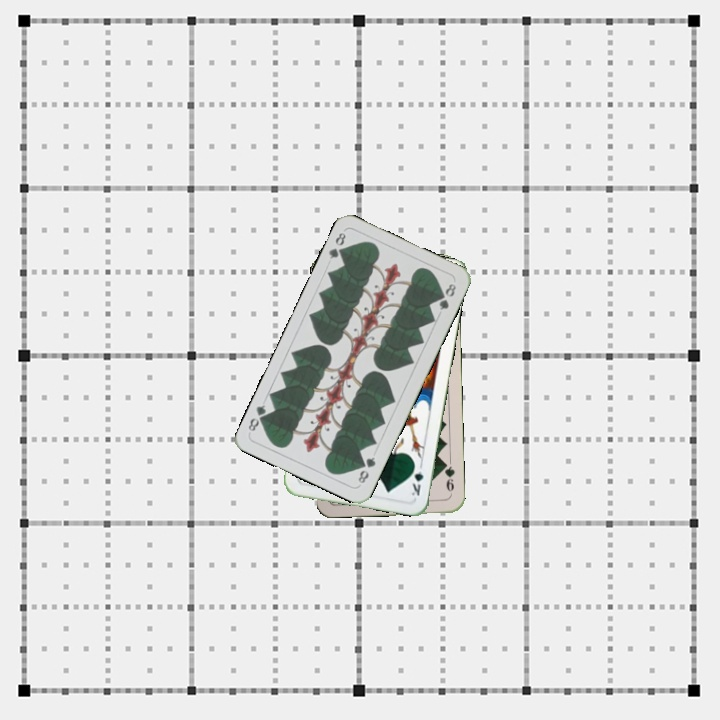G8: (324, 228, 349, 261), (354, 453, 378, 486)
G9: (440, 458, 457, 498)
GK: (407, 459, 426, 498)
